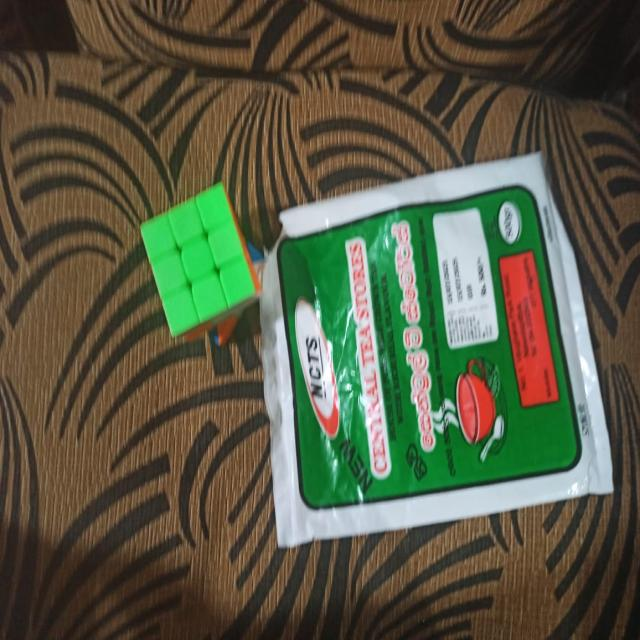Central Tea: (259, 184, 605, 546)
